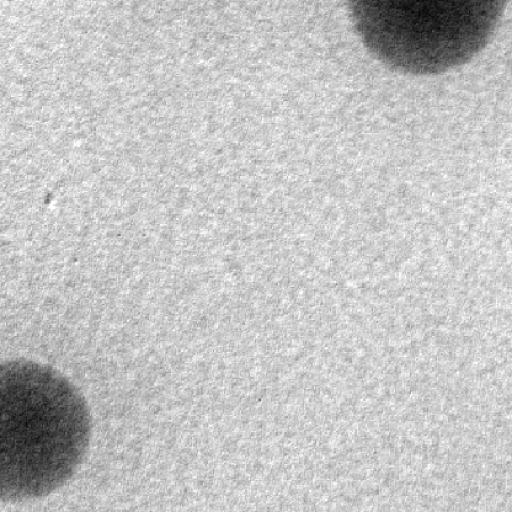Nanoparticles: (2, 358, 91, 499), (352, 2, 496, 74)
